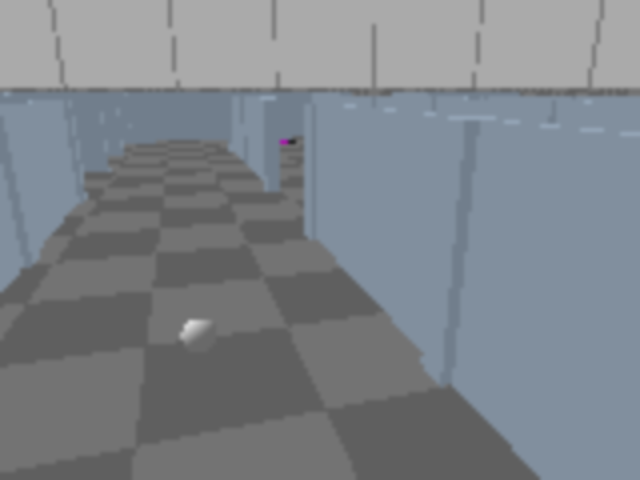puck: (172, 310, 225, 363)
